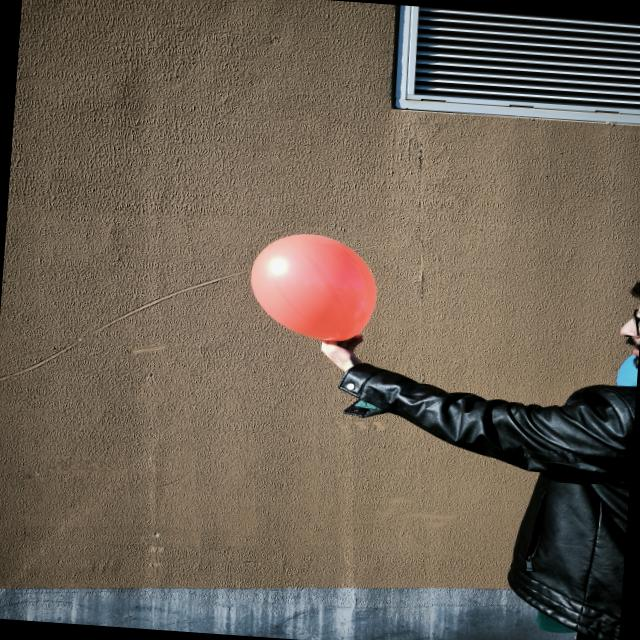balloon: (250, 234, 376, 341)
